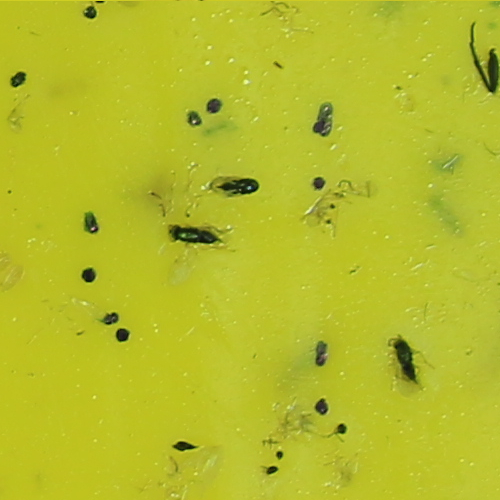Psyllaephagus: (388, 337, 421, 381), (167, 228, 221, 246), (214, 176, 261, 195)
